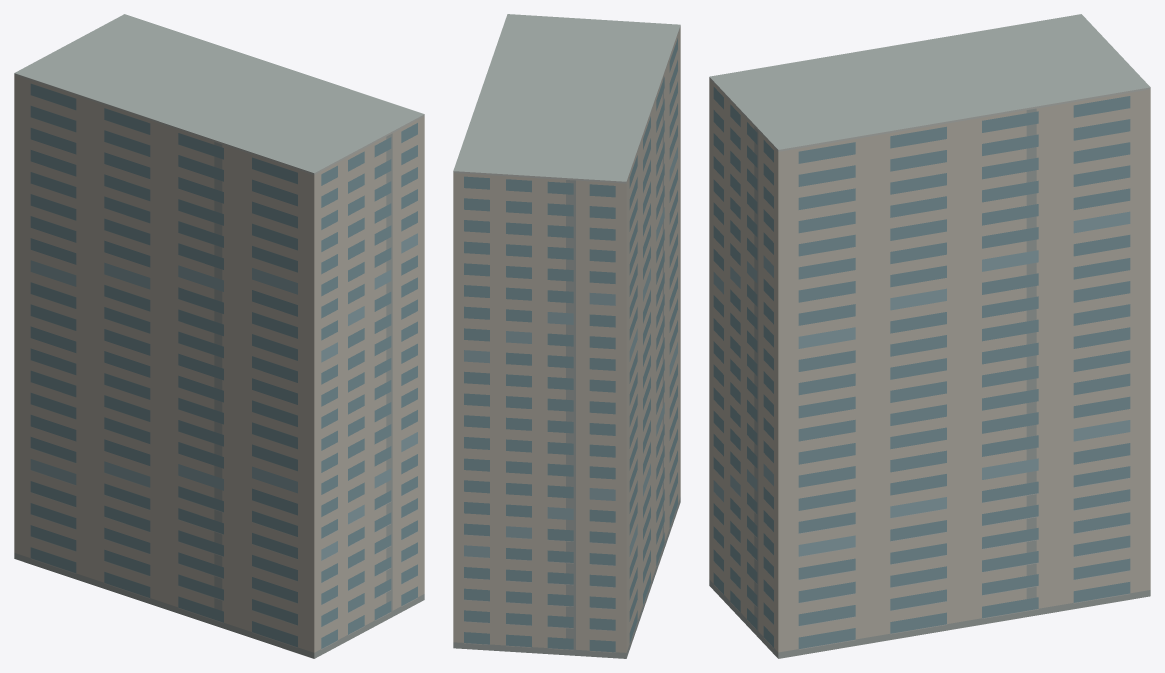
Rendered from residential-4a19be9f-e4b9-4c2d-8477-842c2872ced1.glb.
3 views of the same model, side by side, from view 1: azimuth 30°, elevation 25°; view 2: azimuth 150°, elevation 25°; view 3: azimuth 270°, elevation 25° (orthographic). The views are drawn at different scales.
Parts seen in each view (by area): view 1: residential-4a19be9f-e4b9-4c2d-8477-842c2872ced1.tmp; view 2: residential-4a19be9f-e4b9-4c2d-8477-842c2872ced1.tmp; view 3: residential-4a19be9f-e4b9-4c2d-8477-842c2872ced1.tmp.
Part boxes in pixels (x1,y1,x2,y2): residential-4a19be9f-e4b9-4c2d-8477-842c2872ced1.tmp: (14, 14, 424, 658); residential-4a19be9f-e4b9-4c2d-8477-842c2872ced1.tmp: (453, 14, 680, 658); residential-4a19be9f-e4b9-4c2d-8477-842c2872ced1.tmp: (709, 14, 1150, 658).
Bounding box in the file's own units: 36.1 × 63 × 49.53.
